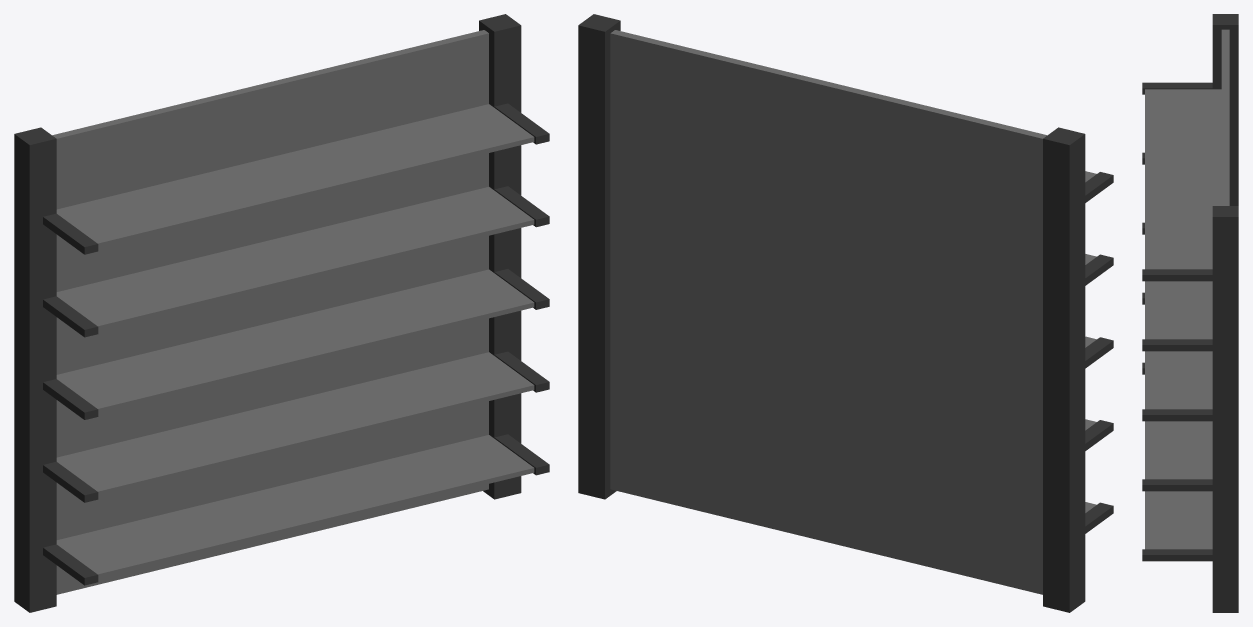
The model's file is SM_Props_Rack_03.fbx.
3 views of the same model, side by side, from view 1: azimuth 30°, elevation 25°; view 2: azimuth 150°, elevation 25°; view 3: azimuth 270°, elevation 25° (orthographic). The views are drawn at different scales.
Parts seen in each view (by area): view 1: SM_Props_Rack_03; view 2: SM_Props_Rack_03; view 3: SM_Props_Rack_03.
Boxes of the visible parts, x1,y1,x2,y2 form: SM_Props_Rack_03: [14, 14, 549, 612]; SM_Props_Rack_03: [578, 14, 1113, 612]; SM_Props_Rack_03: [1142, 14, 1238, 612].
Bounding box in the file's own units: 2.2 × 2 × 0.4424.
